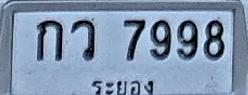7: (123, 19, 145, 60)
8: (204, 19, 224, 60)
9: (176, 19, 198, 59), (150, 20, 171, 59)
A01: (36, 19, 63, 61)
A37: (70, 19, 96, 60)
RYG: (90, 78, 158, 95)
